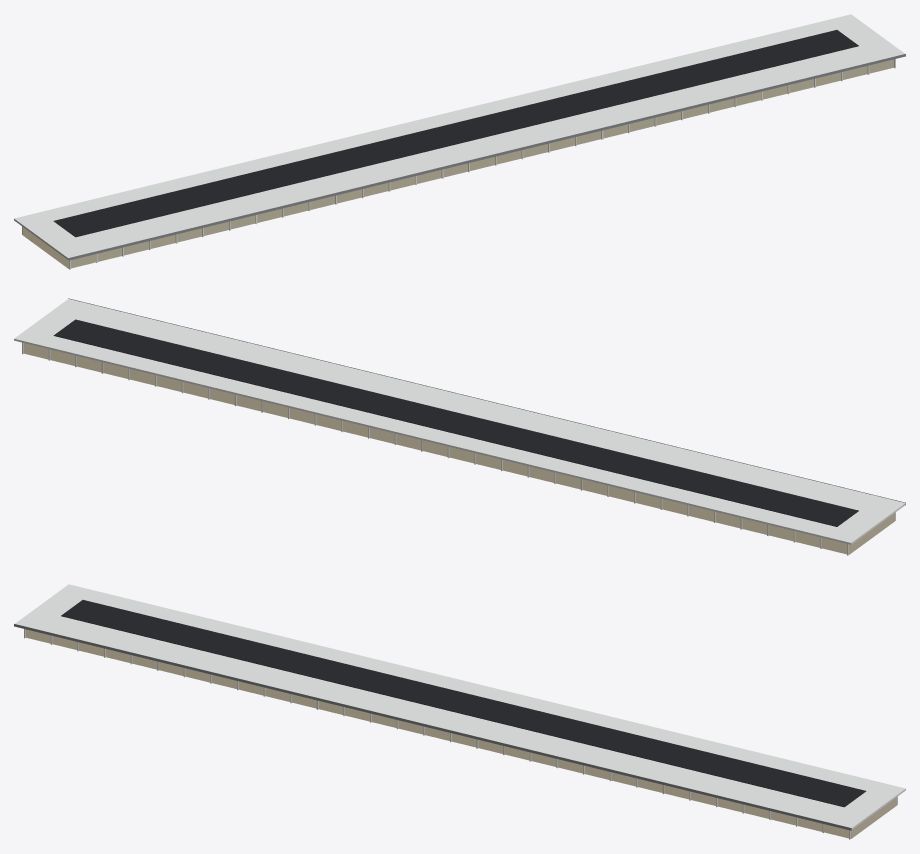
File: rbr_pit_roof2027.glb
3 views of the same model, one above another, from view 1: azimuth 30°, elevation 25°; view 2: azimuth 150°, elevation 25°; view 3: azimuth 330°, elevation 25° (orthographic).
Visible parts, largest first — view 1: red-bull-ring-pit-roof-terrace-2027; view 2: red-bull-ring-pit-roof-terrace-2027; view 3: red-bull-ring-pit-roof-terrace-2027.
Boxes of the visible parts, x1,y1,x2,y2 form: red-bull-ring-pit-roof-terrace-2027: (14,14,905,269); red-bull-ring-pit-roof-terrace-2027: (14,298,905,555); red-bull-ring-pit-roof-terrace-2027: (14,584,905,839).
Size of the model in its own units: 234 by 4.32 by 26.45.
